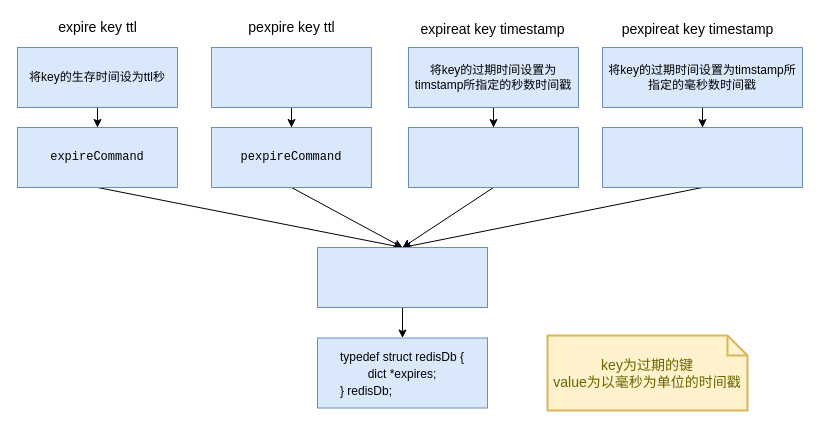
Some shapes in this 820 by 428 pixel diagram are drawn without their labels. The shapes that lost their labels are listed below. From the top down, each one's centre as x and y in pixels, then its label:
the point at 291,77: 将key的生存时间设为ttl毫秒
the point at 493,157: expireatCommand
the point at 702,157: pexpireatCommand
the point at 402,277: expireGenericCommand
